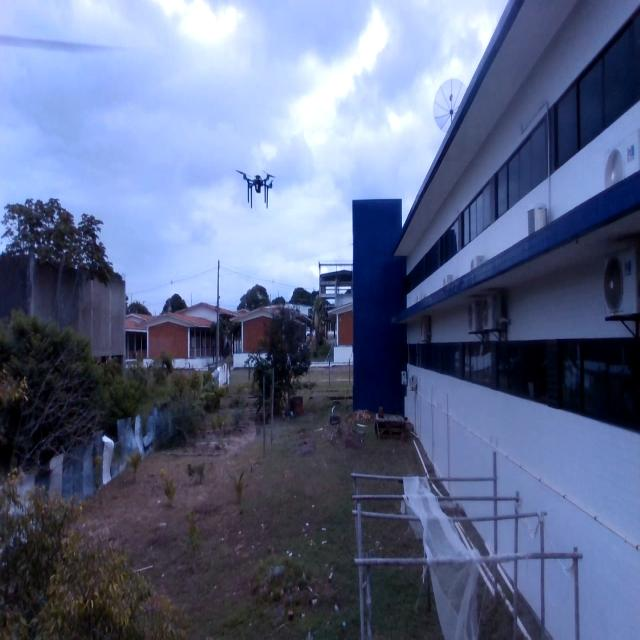-uav-: (233, 158, 280, 216)
